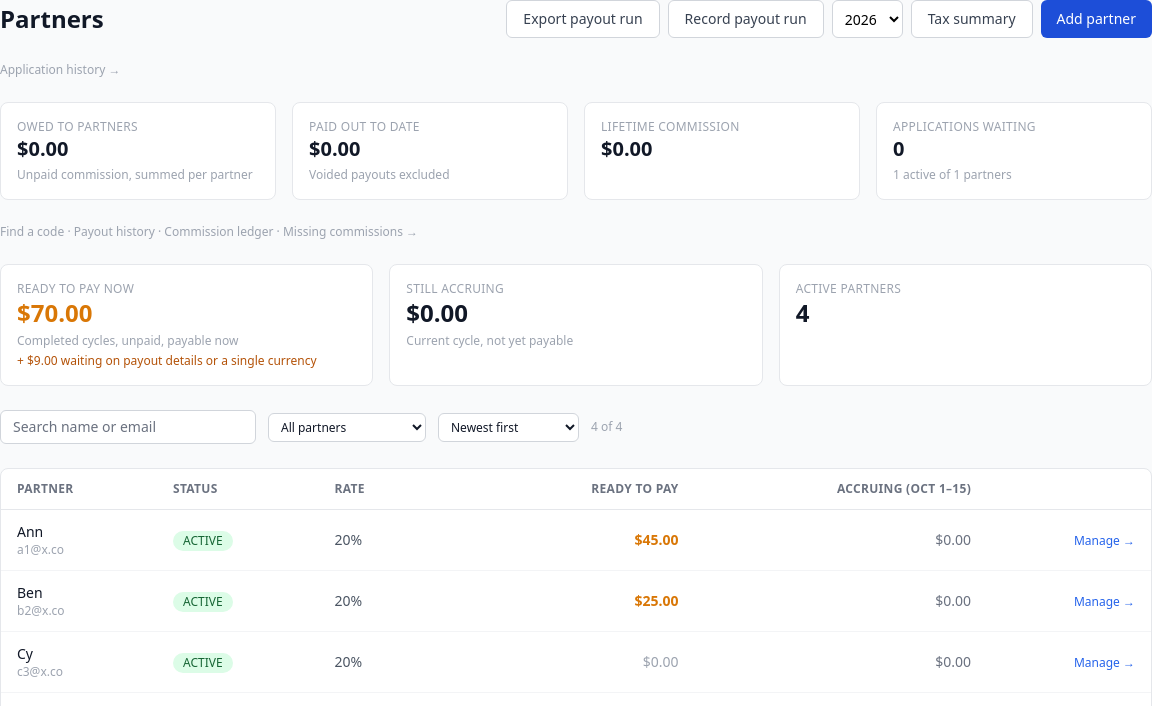
Record payout run › lists only partners with something ready AND somewhere to send it, all selected, with the total
Click the button "Record payout run". click: (746, 19)
box: 668,0 -> 824,38
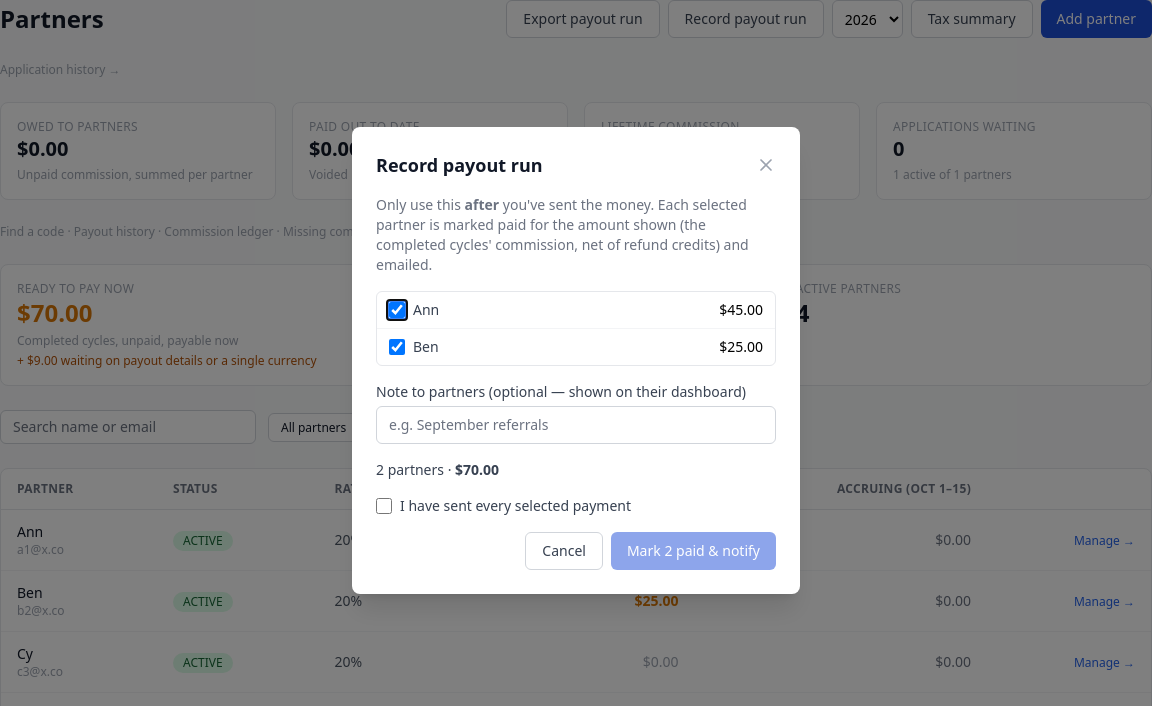
Check: the text "Ann" is shown, box 389,300 -> 439,320
Check: the text "Ben" is shown, box 389,336 -> 439,356
Check: the element with test id "run-total" reads "2 partners · $70.00", box 376,460 -> 499,478
